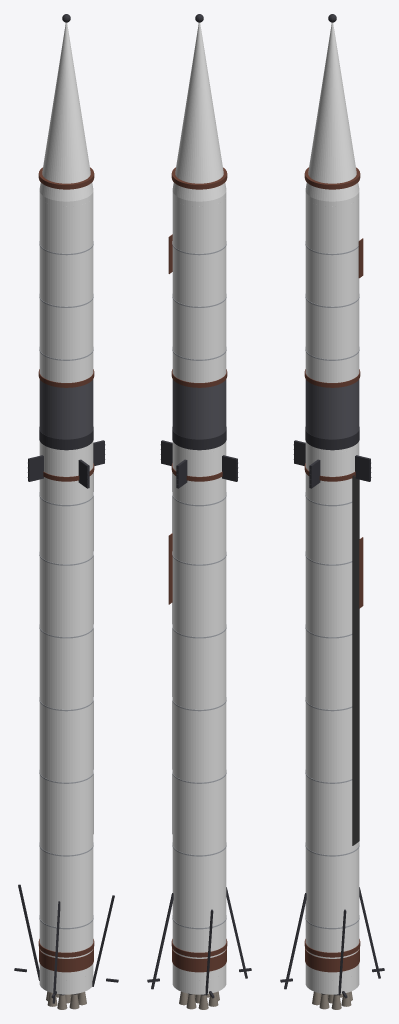
File: falcon9_rocket.glb
3 renders of one model, left to right at view 1: azimuth 30°, elevation 25°; view 2: azimuth 150°, elevation 25°; view 3: azimuth 330°, elevation 25°, orthographic.
Visible parts, largest first — view 1: S1_Body, S2_Body, Fairing, Interstage, SootSkirt, S1_Band, ThermalCollar61.1, GFin270, Stripe, Leg315, ThermalCollar46.1, ThermalCollar3.0 (+4 smaller); view 2: S1_Body, S2_Body, Fairing, Interstage, SootSkirt, S1_Band, ThermalCollar61.1, GFin270, ServiceMark, Leg45, ThermalCollar46.1, ThermalCollar3.0 (+4 smaller); view 3: S1_Body, S2_Body, Fairing, Stripe, Interstage, SootSkirt, S1_Band, ThermalCollar61.1, GFin90, ServiceMark, Leg225, ThermalCollar46.1 (+4 smaller).
Boxes of the visible parts, left/top/right/bottom form: S1_Body: left=39, top=441, right=93, bottom=994; S2_Body: left=39, top=192, right=93, bottom=382; Fairing: left=39, top=22, right=93, bottom=201; Interstage: left=39, top=379, right=93, bottom=439; SootSkirt: left=39, top=948, right=93, bottom=972; S1_Band: left=39, top=427, right=93, bottom=450; ThermalCollar61.1: left=38, top=167, right=94, bottom=189; GFin270: left=28, top=455, right=43, bottom=481; Stripe: left=93, top=473, right=93, bottom=833; Leg315: left=18, top=884, right=39, bottom=980; ThermalCollar46.1: left=38, top=369, right=94, bottom=387; ThermalCollar3.0: left=38, top=939, right=94, bottom=957; S1_Body: left=172, top=441, right=226, bottom=994; S2_Body: left=172, top=192, right=226, bottom=382; Fairing: left=172, top=22, right=226, bottom=201; Interstage: left=172, top=379, right=226, bottom=439; SootSkirt: left=172, top=948, right=226, bottom=972; S1_Band: left=172, top=427, right=226, bottom=450; ThermalCollar61.1: left=171, top=167, right=227, bottom=189; GFin270: left=222, top=455, right=237, bottom=481; ServiceMark: left=168, top=533, right=172, bottom=604; Leg45: left=151, top=893, right=173, bottom=989; ThermalCollar46.1: left=171, top=369, right=227, bottom=387; ThermalCollar3.0: left=171, top=939, right=227, bottom=957; S1_Body: left=305, top=441, right=359, bottom=994; S2_Body: left=305, top=192, right=359, bottom=382; Fairing: left=305, top=22, right=359, bottom=201; Stripe: left=352, top=475, right=359, bottom=845; Interstage: left=305, top=379, right=359, bottom=439; SootSkirt: left=305, top=948, right=359, bottom=972; S1_Band: left=305, top=427, right=359, bottom=450; ThermalCollar61.1: left=304, top=167, right=360, bottom=189; GFin90: left=355, top=455, right=370, bottom=481; ServiceMark: left=359, top=537, right=363, bottom=608; Leg225: left=284, top=893, right=306, bottom=989; ThermalCollar46.1: left=304, top=369, right=360, bottom=387.
Bounding box in the file's own units: 6.08 × 74.67 × 6.08.
